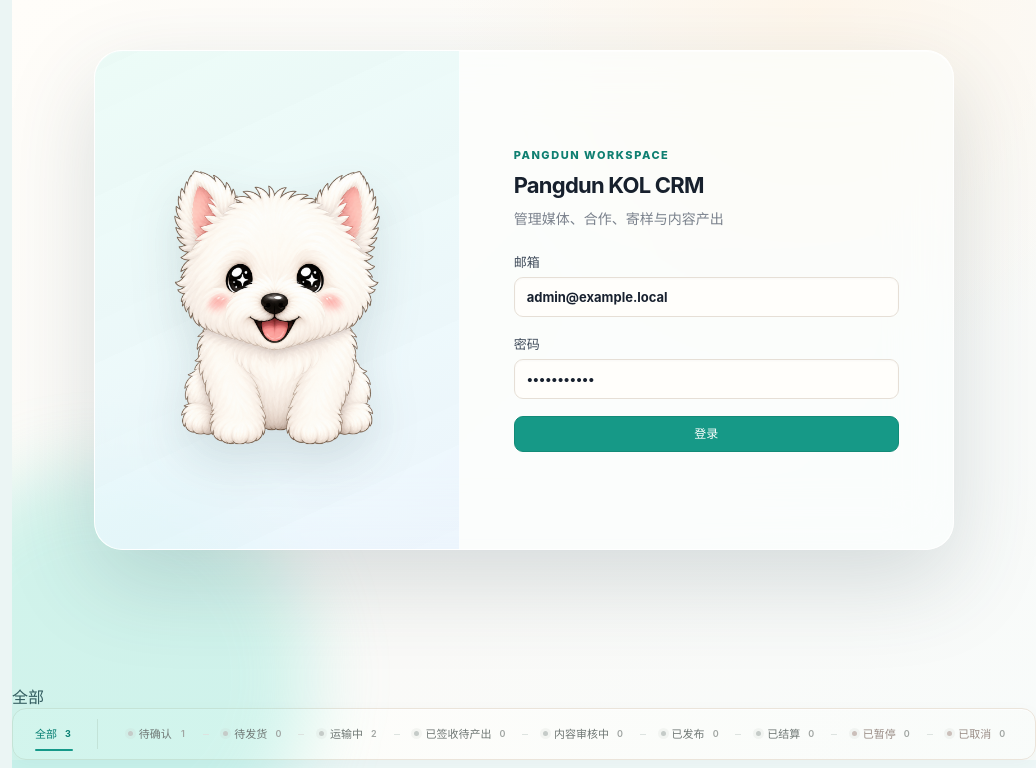
Test: 合作执行关键交互 › 状态轨道与当前筛选值双向同步
(page scrolled)
Click the tab "运输中 2": (349, 734) 301,716 -> 397,752
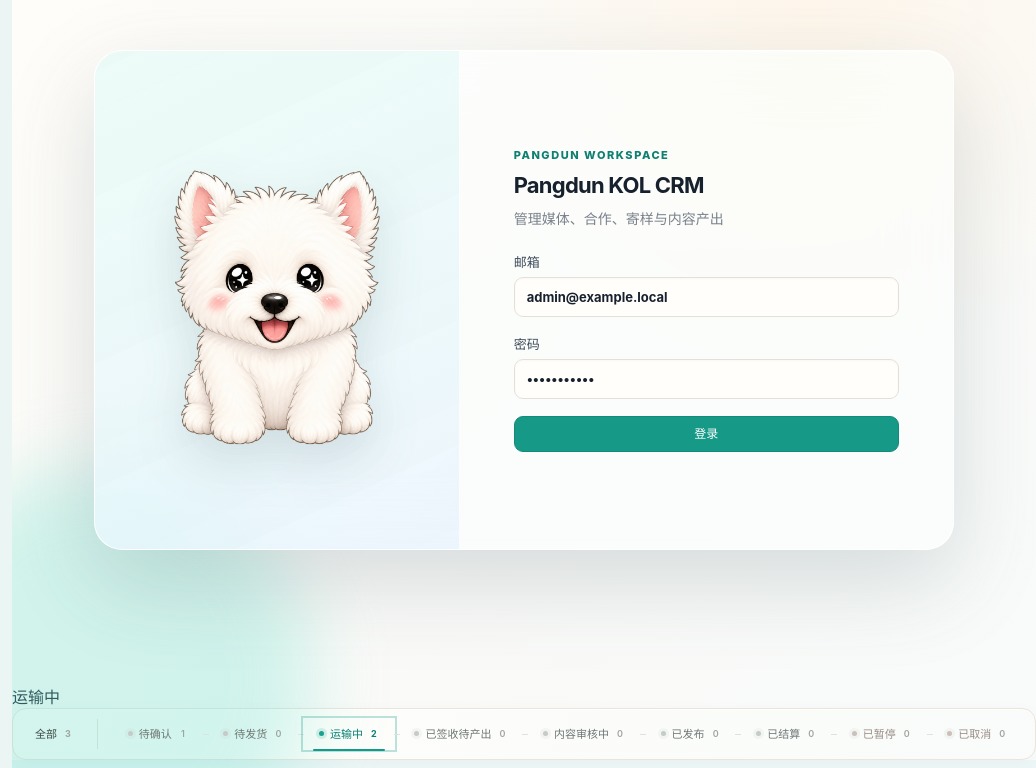
Check: the text with test id "selected-status" reads "运输中", box 12,687 -> 60,707
Click the tab "全部 3": (54, 734) 23,716 -> 85,752
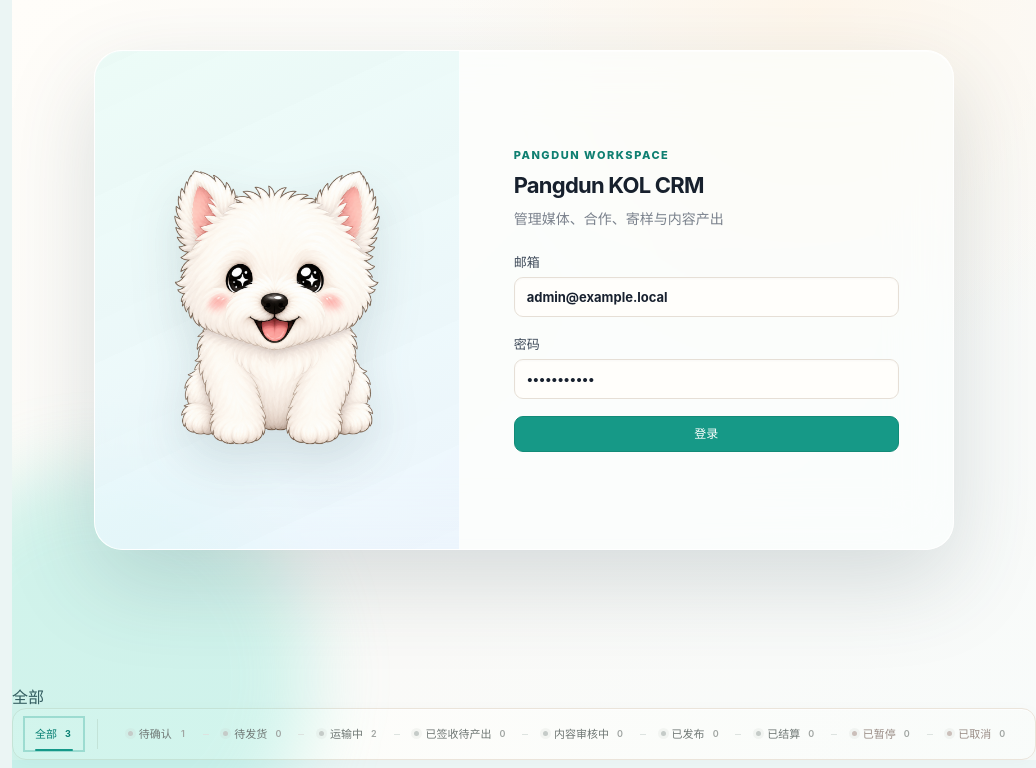
Check: the text with test id "selected-status" reads "全部", box 12,687 -> 44,707
